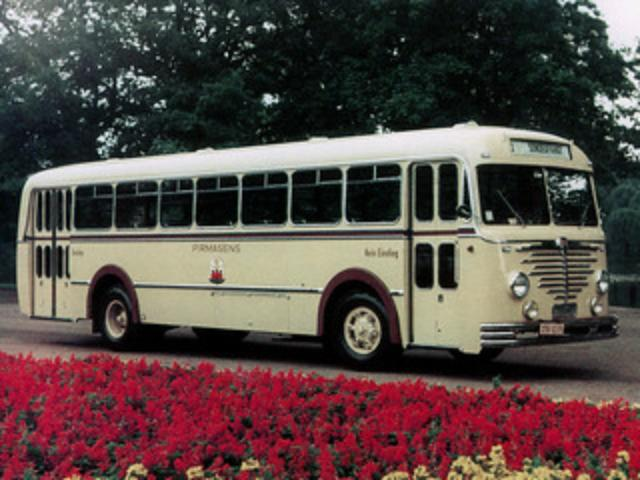bus: (16, 120, 620, 370)
